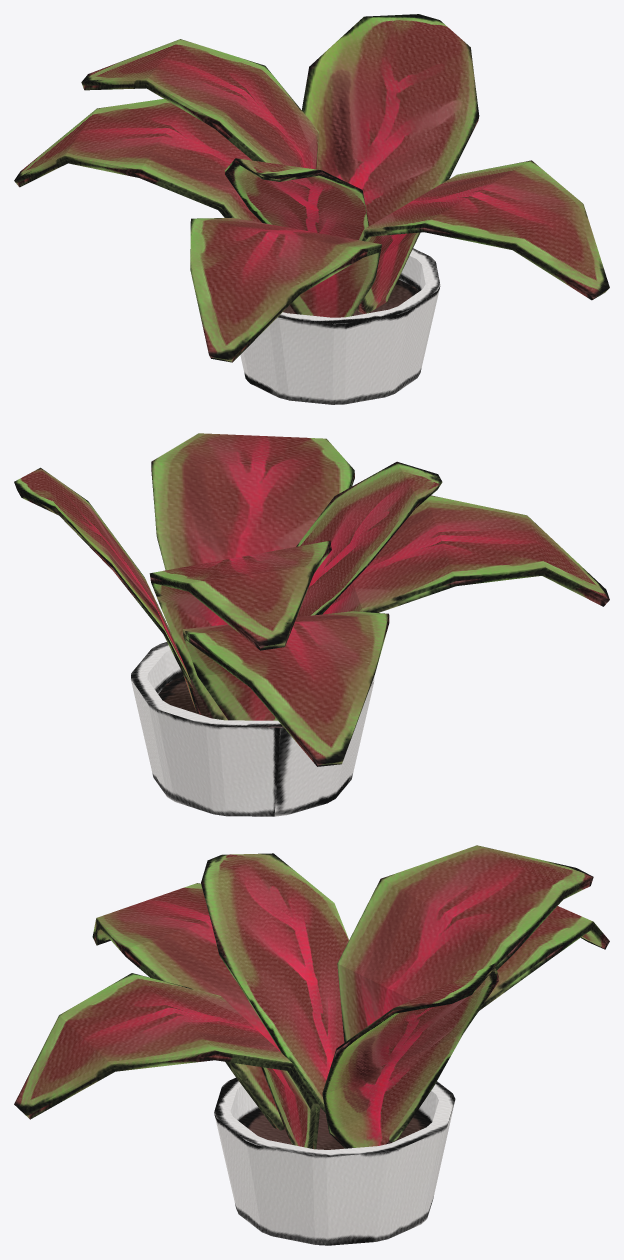
File: detail_plant.glb
The picture shows the model from 3 angles, top to bottom: view 1: azimuth 30°, elevation 25°; view 2: azimuth 150°, elevation 25°; view 3: azimuth 270°, elevation 25°; orthographic projection. The views are drawn at different scales.
Parts seen in each view (by area): view 1: Plant; view 2: Plant; view 3: Plant.
Part boxes in pixels (x1,y1,x2,y2): Plant: (14,14,609,404); Plant: (14,433,609,816); Plant: (14,845,609,1245).
Bounding box in the file's own units: 0.0525 × 0.0348 × 0.0633.
1 material, 1 textured.
